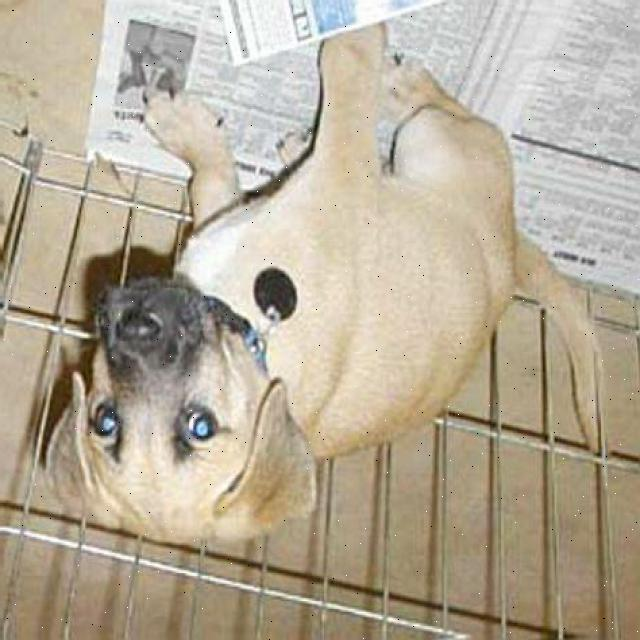Dog: (48, 258, 330, 569)
